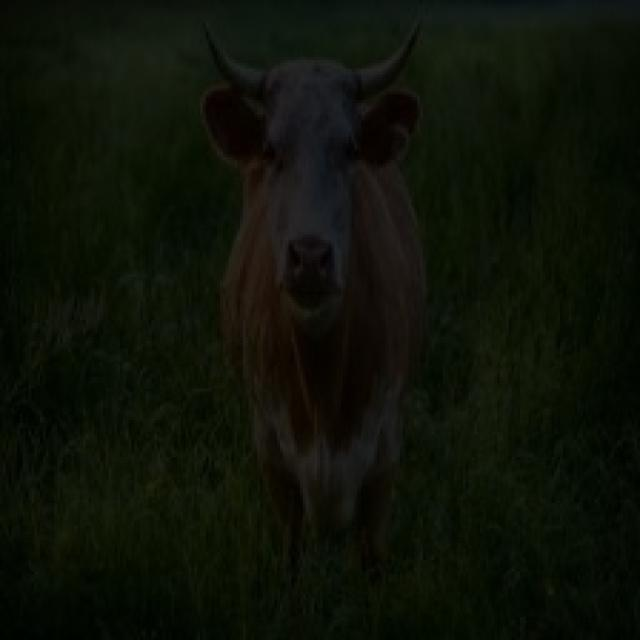bear: (105, 32, 561, 615)
